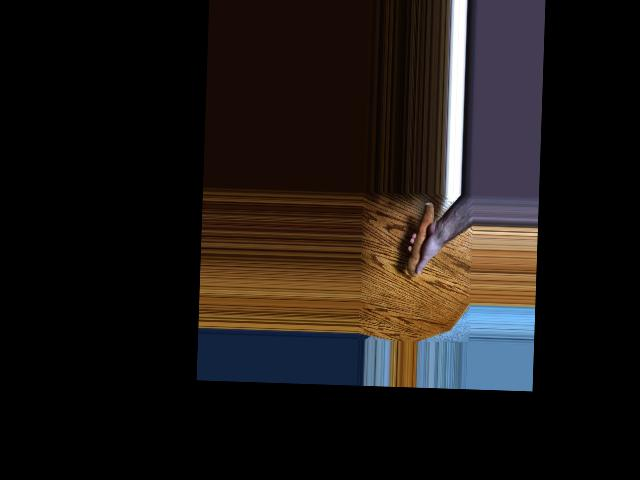sweet_potato: (406, 201, 435, 276)
